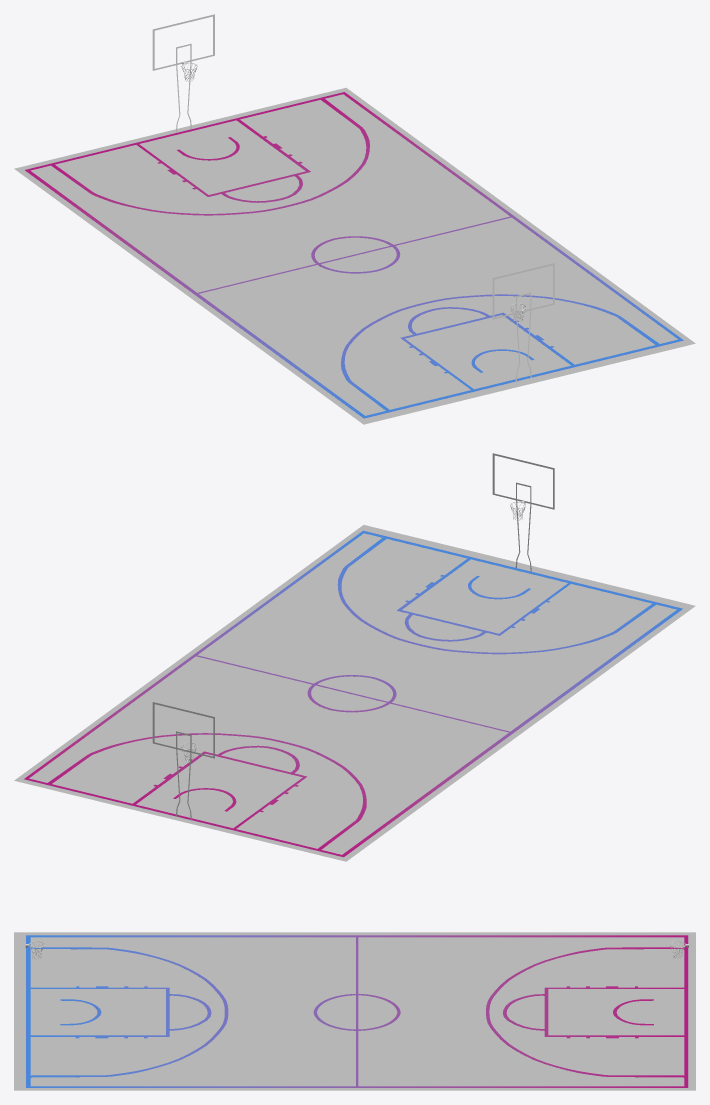
Rendered from Basketball_Stadium.fbx.
3 views of the same model, one above another, from view 1: azimuth 30°, elevation 25°; view 2: azimuth 150°, elevation 25°; view 3: azimuth 270°, elevation 25° (orthographic). The views are drawn at different scales.
Parts seen in each view (by area): view 1: Base, BB_Ground, pCube2 (×2); view 2: Base, BB_Ground, pCube2 (×2); view 3: Base, BB_Ground.
Boxes of the visible parts, x1,y1,x2,y2 form: Base: [14, 87, 695, 424]; BB_Ground: [25, 92, 683, 418]; pCube2 (×2): [152, 14, 554, 381]; Base: [14, 525, 695, 861]; BB_Ground: [24, 530, 682, 857]; pCube2 (×2): [152, 453, 554, 820]; Base: [14, 932, 695, 1090]; BB_Ground: [26, 935, 688, 1087].
Bounding box in the file's own units: 1655 × 519 × 3016.
